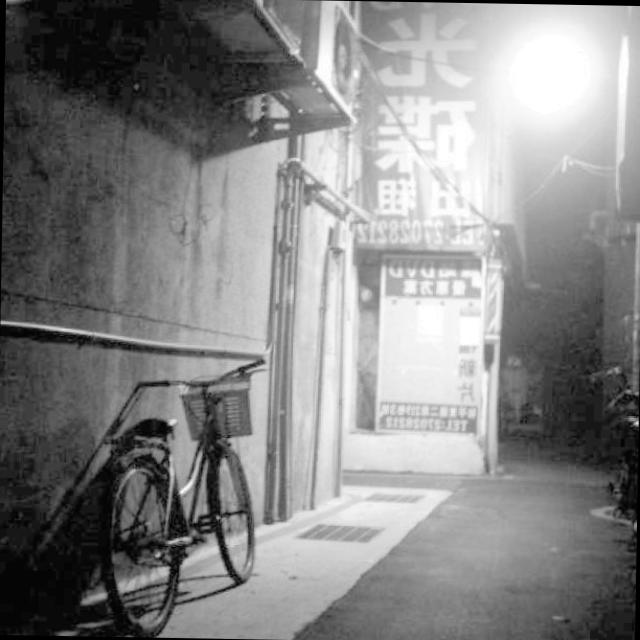Bicycle: (94, 348, 269, 638)
